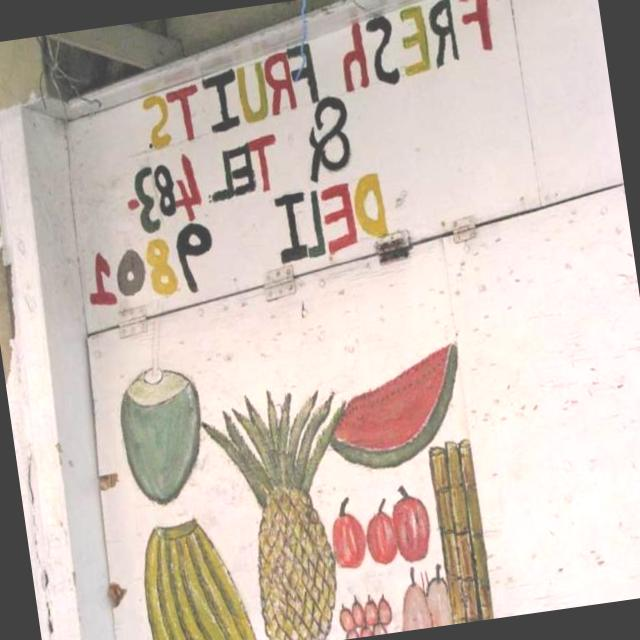Banana: (137, 513, 257, 640)
